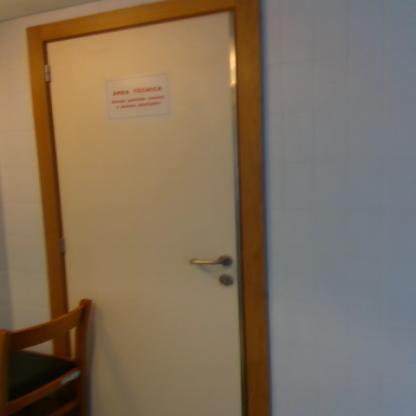door: (52, 43, 242, 415)
hinged: (43, 62, 52, 82), (60, 237, 66, 254)
lever: (185, 256, 229, 268)
